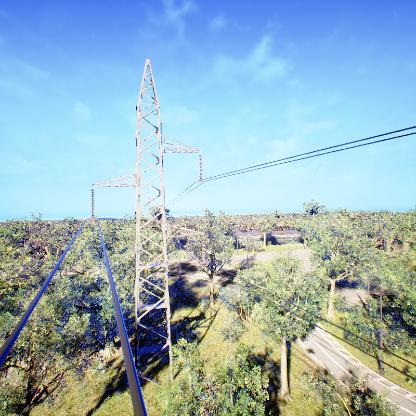tower: (88, 58, 206, 392)
